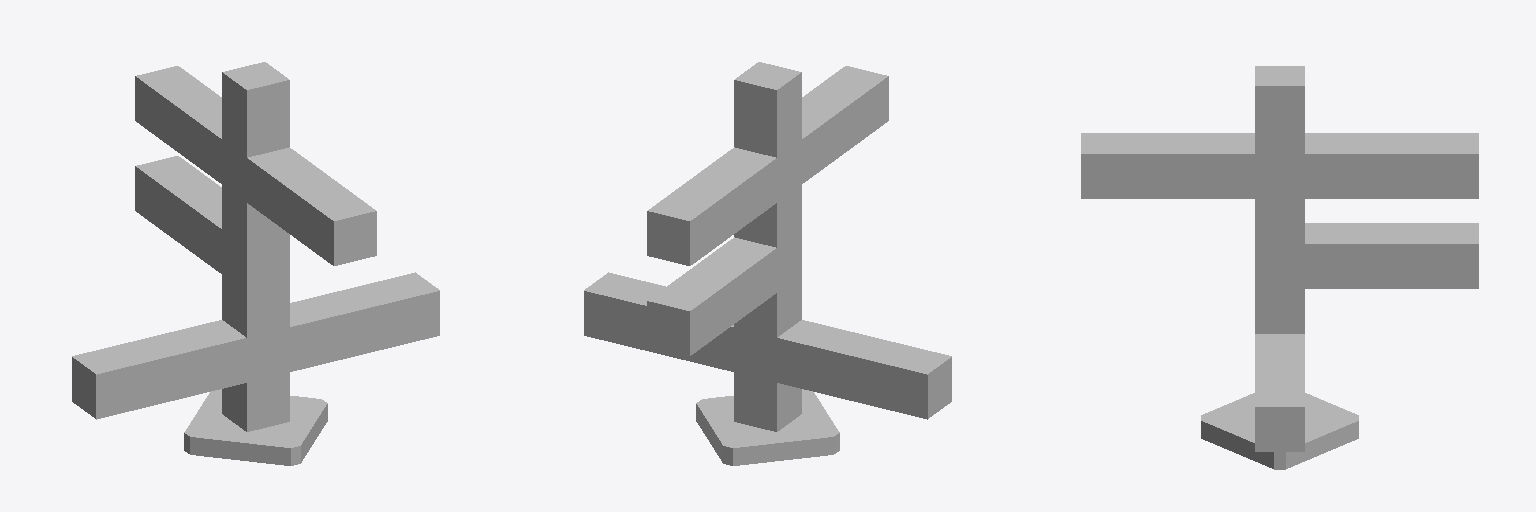
File: obs2.obj
3 renders of one model, left to right at view 1: azimuth 30°, elevation 25°; view 2: azimuth 150°, elevation 25°; view 3: azimuth 270°, elevation 25°, orthographic.
Visible parts, largest first — view 1: ob2_Cube.031; view 2: ob2_Cube.031; view 3: ob2_Cube.031.
Boxes of the visible parts, box(x1,y1,x2,y2) form: ob2_Cube.031: box(72, 62, 439, 465); ob2_Cube.031: box(584, 62, 951, 465); ob2_Cube.031: box(1081, 66, 1478, 469).
Bounding box in the file's own units: 2 × 2 × 2.